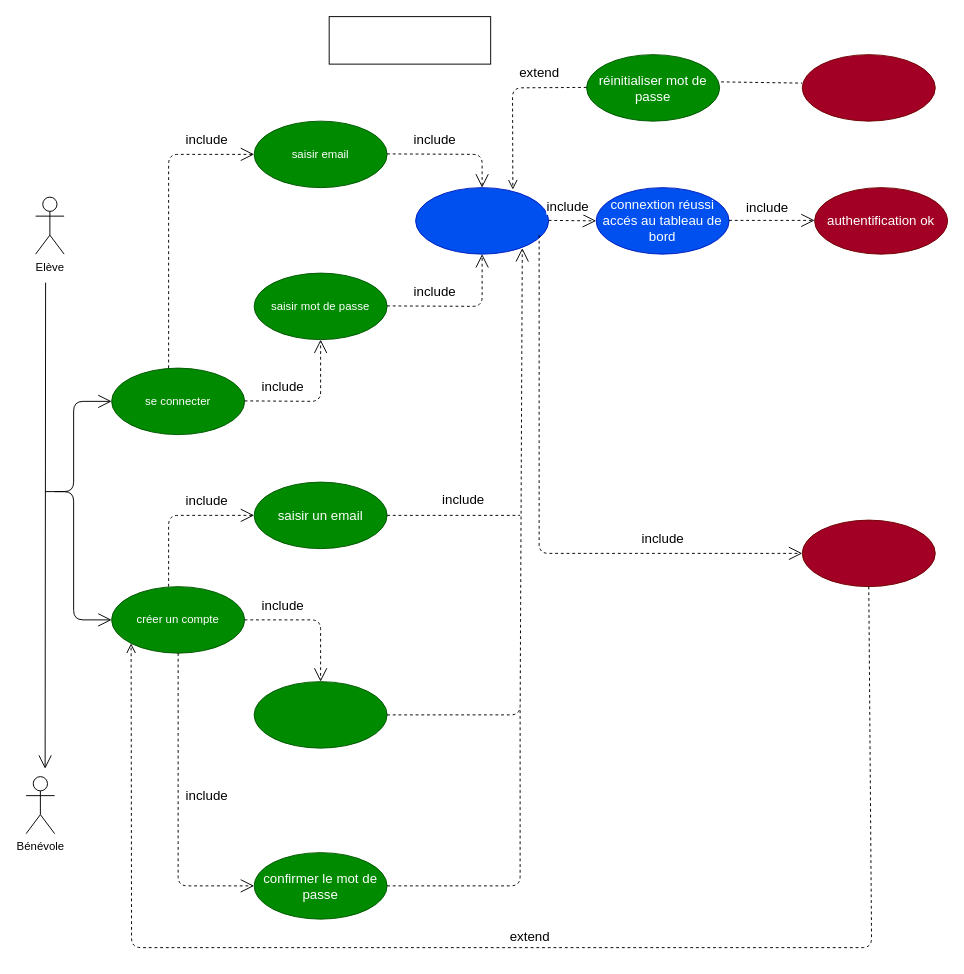
Some shapes in this 964 by 974 pixel diagram are drawn without their labels. The shapes that lost their labels are listed below. From the top down, each one's centre as x and y in pixels, then its label:
the point at 409,40: Inscription / connextion
the point at 868,87: l'utilisateur à oublié son mot de passe
the point at 482,220: vérification compte
the point at 868,553: l'utilisateur n'existe pas
the point at 320,714: saisir un mot de passe
